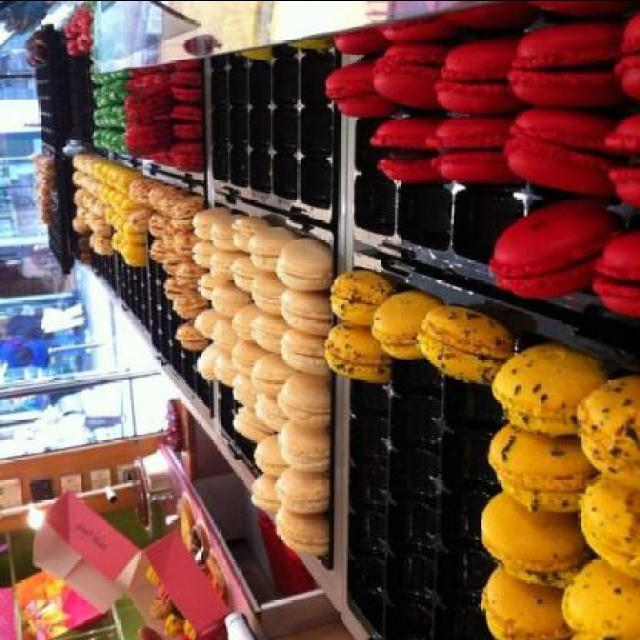Macaron: (28, 1, 640, 634)
